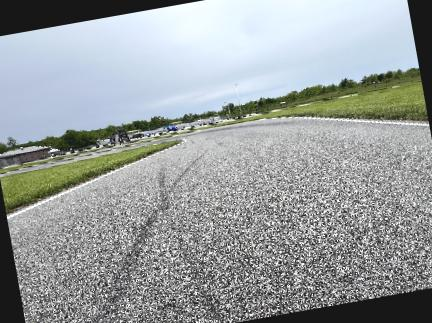Grass: (169, 82, 428, 136), (0, 140, 180, 214), (250, 83, 428, 120), (0, 147, 108, 173)
Lane: (8, 118, 431, 322)
